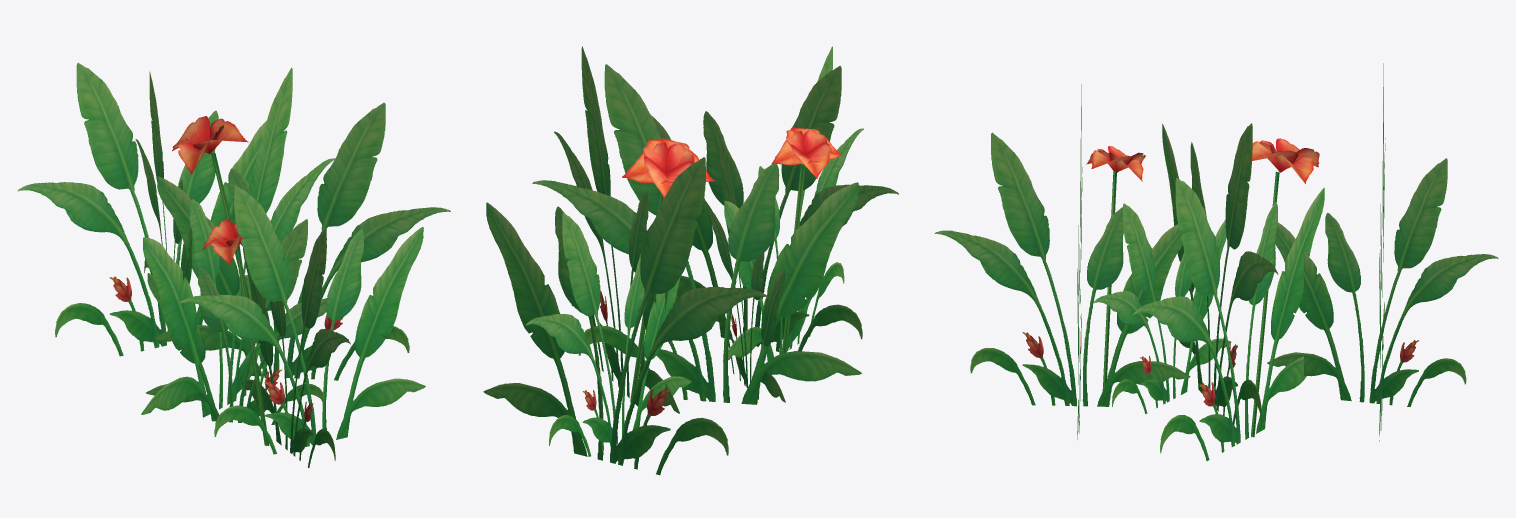
File: area_06_15.fbx
3 views of the same model, side by side, from view 1: azimuth 30°, elevation 25°; view 2: azimuth 150°, elevation 25°; view 3: azimuth 270°, elevation 25° (orthographic). The views are drawn at different scales.
Visible parts, largest first — view 1: area_06_15; view 2: area_06_15; view 3: area_06_15.
Part boxes in pixels (x1,y1,x2,y2): area_06_15: (18,62,450,467); area_06_15: (483,46,898,475); area_06_15: (934,63,1498,460).
Size of the model in its own units: 1.69 by 1.55 by 2.43.
